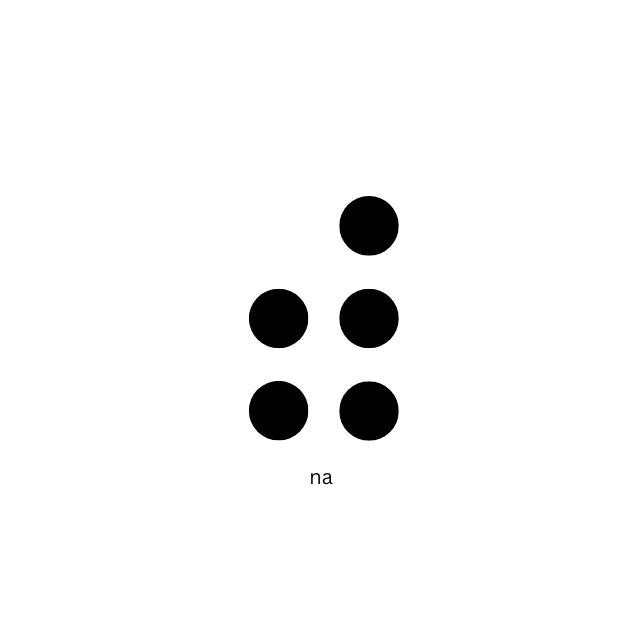one_cell_non_alphabet_na: (248, 194, 400, 443)
